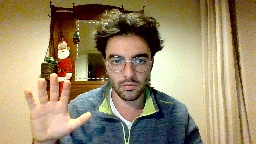Mano_aperta: (19, 70, 92, 143)
